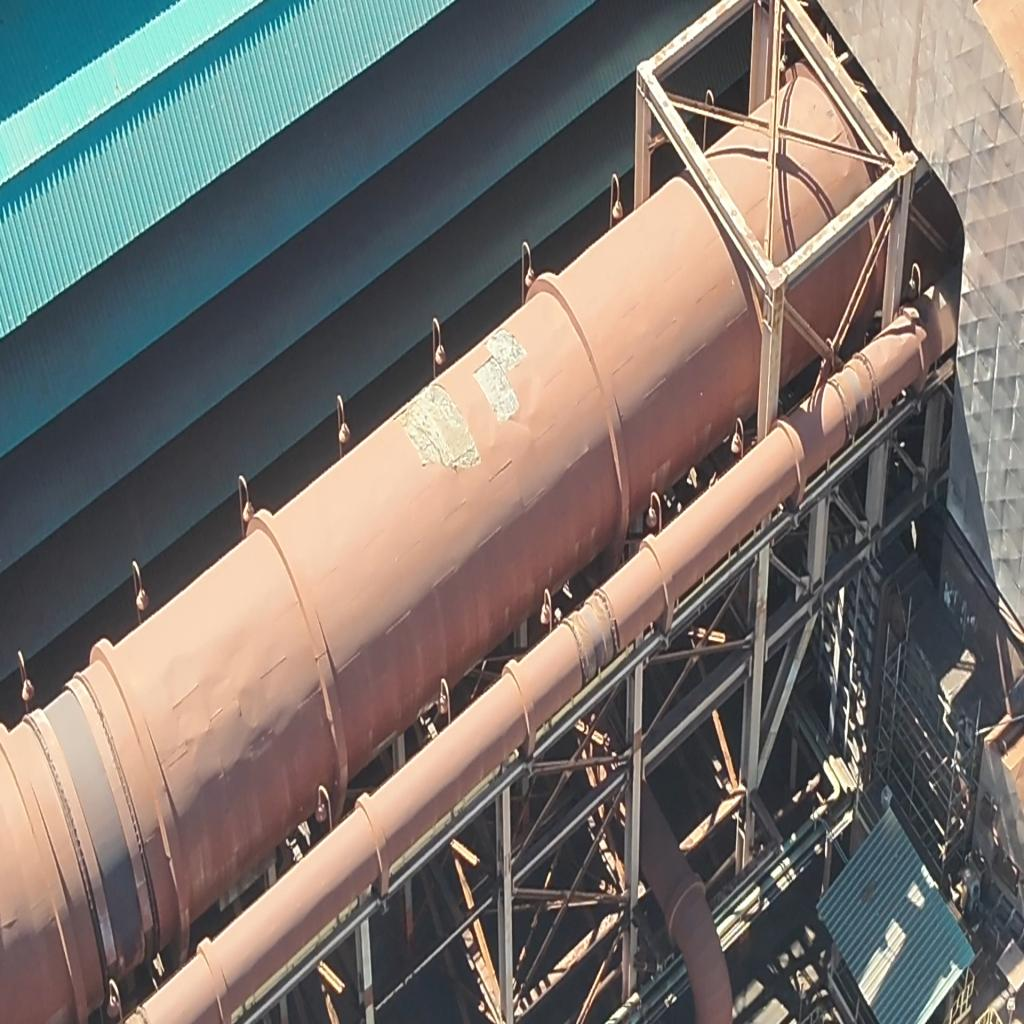Failures: (398, 385, 480, 475), (476, 356, 518, 430), (486, 325, 527, 367)
